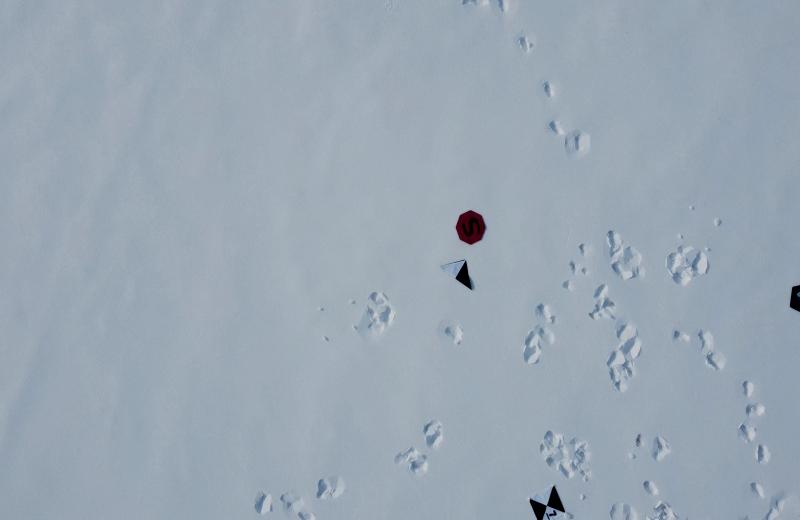Octagon: (454, 206, 488, 248)
Pentagon: (788, 281, 800, 315)
